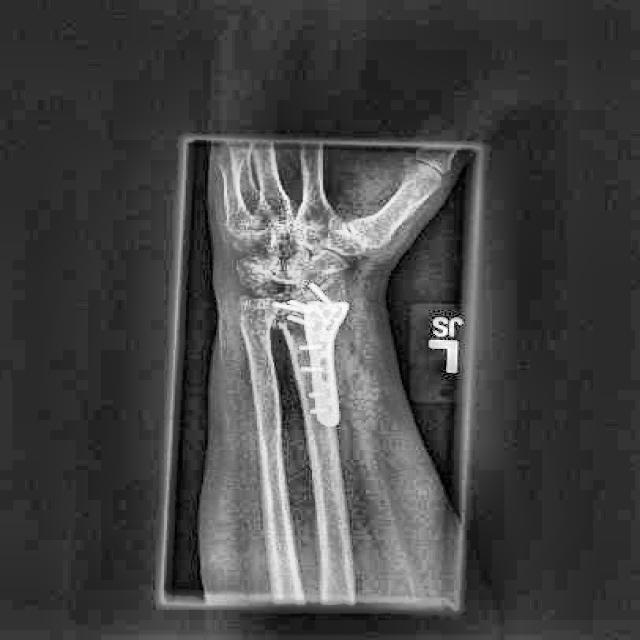fingers positive: (230, 293, 343, 342)
